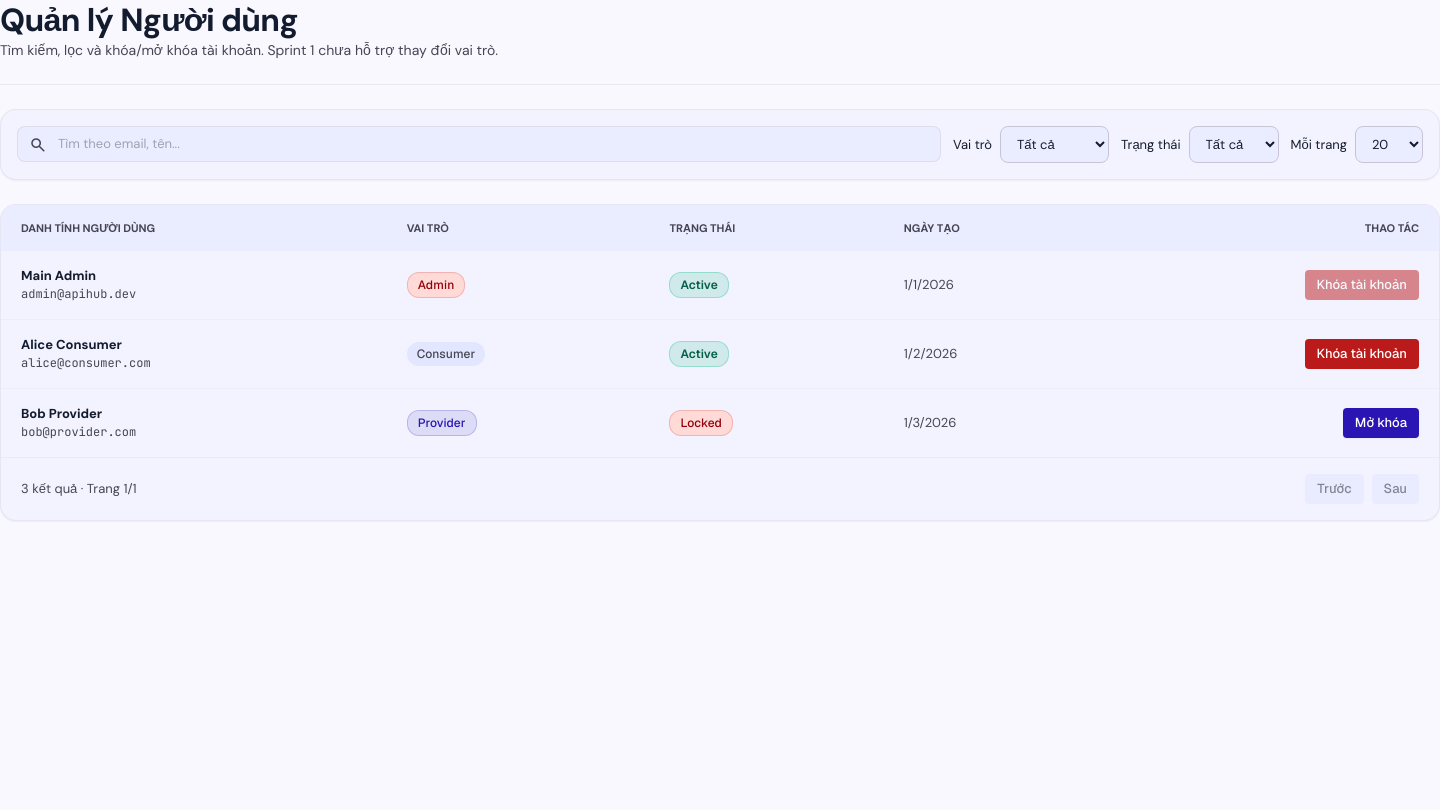
it: UserManagementPage unit tests › toggle user active state (mở modal, gọi API, cập nhật thông báo)
The width and height of the screenshot is (1440, 810).
Expected: the text "Alice Consumer" is shown, [21,336,122,353]
Click the button "Khóa tài khoản" in the row of "Alice Consumer".
click(1362, 354)  # box [1304,339,1419,369]
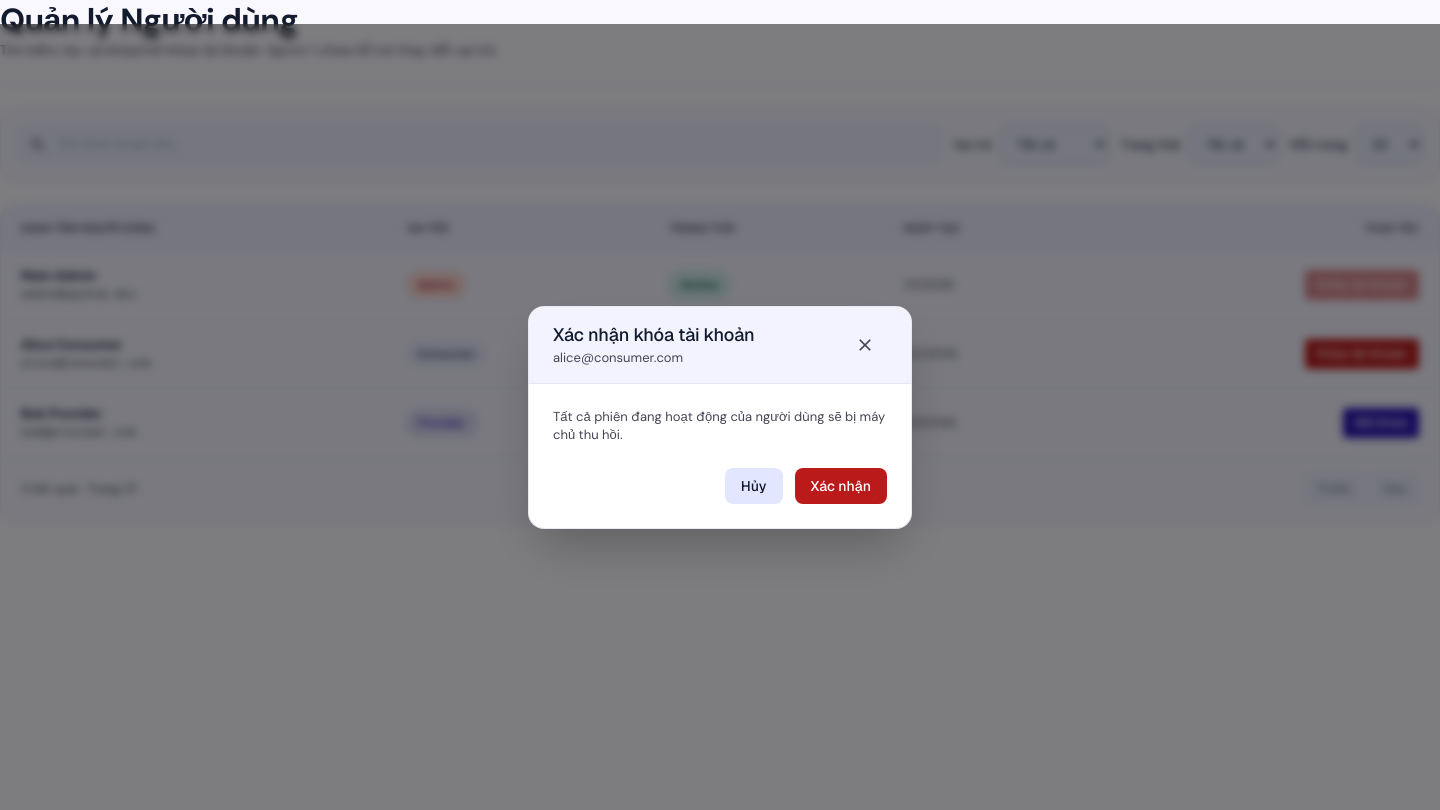
Result: the heading "Xác nhận khóa tài khoản" is shown at [553,322,755,346]
# Nhấn nút Xác nhận trong Modal
Click the button "Xác nhận".
click(841, 486)  # box [795,468,887,504]
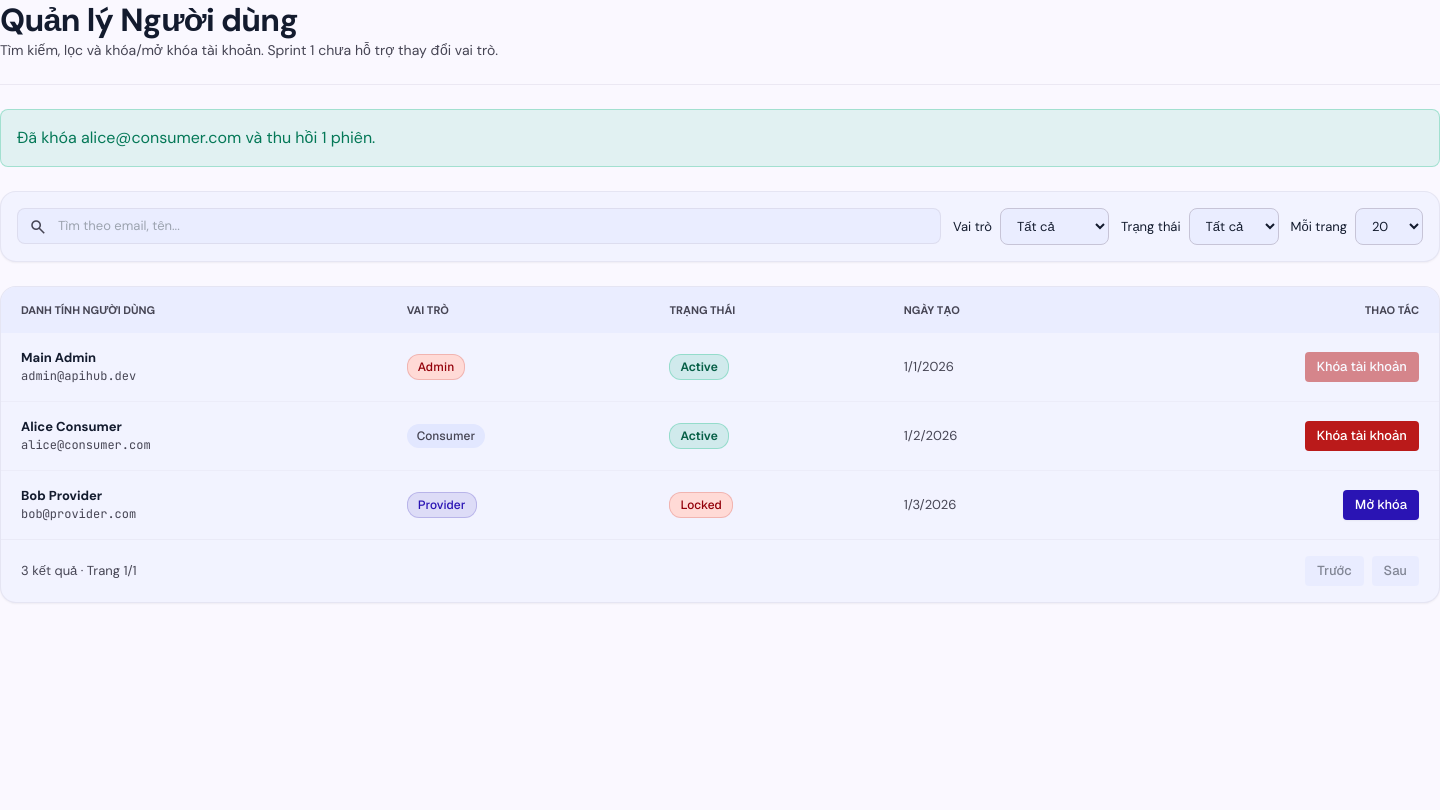
Result: the text "Đã khóa alice@consumer.com và thu hồi 1 phiên." is shown at [0,109,1439,167]
